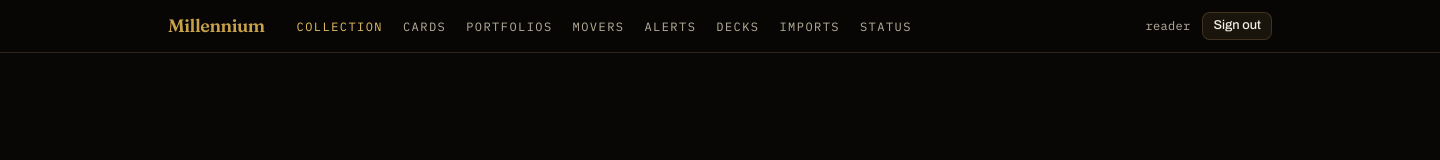
Test: Nav › on a CSRF-403 sign-out (session still valid) re-seeds + retries, no navigation
This screenshot has width=1440, height=160.
Click the button "Sign out": (1237, 26) [1202,12,1272,40]
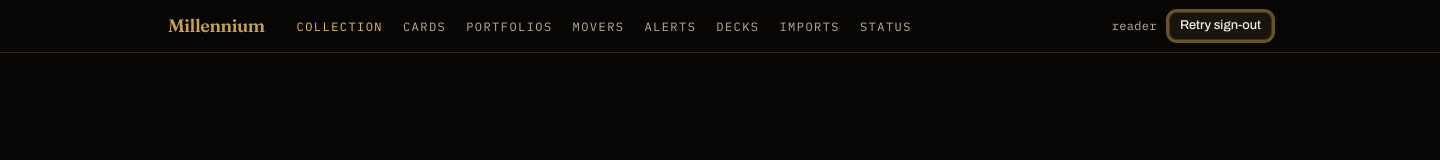
Result: the button "Retry sign-out" is shown at [1169,12,1272,40]
